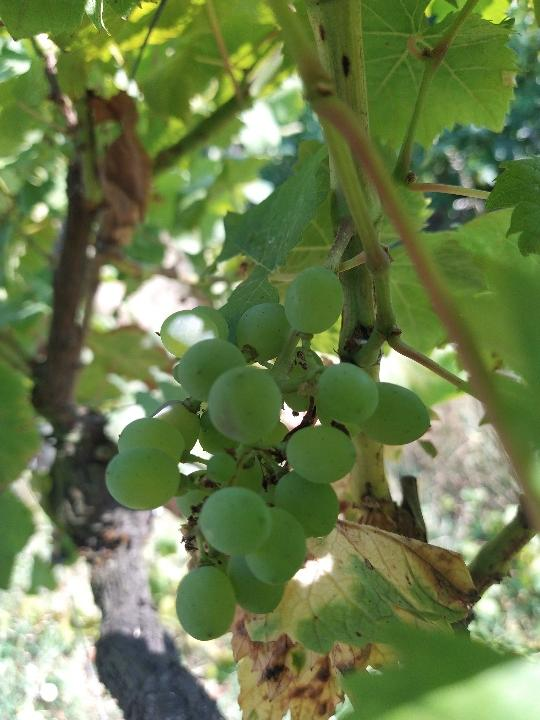grape: (100, 264, 434, 643)
